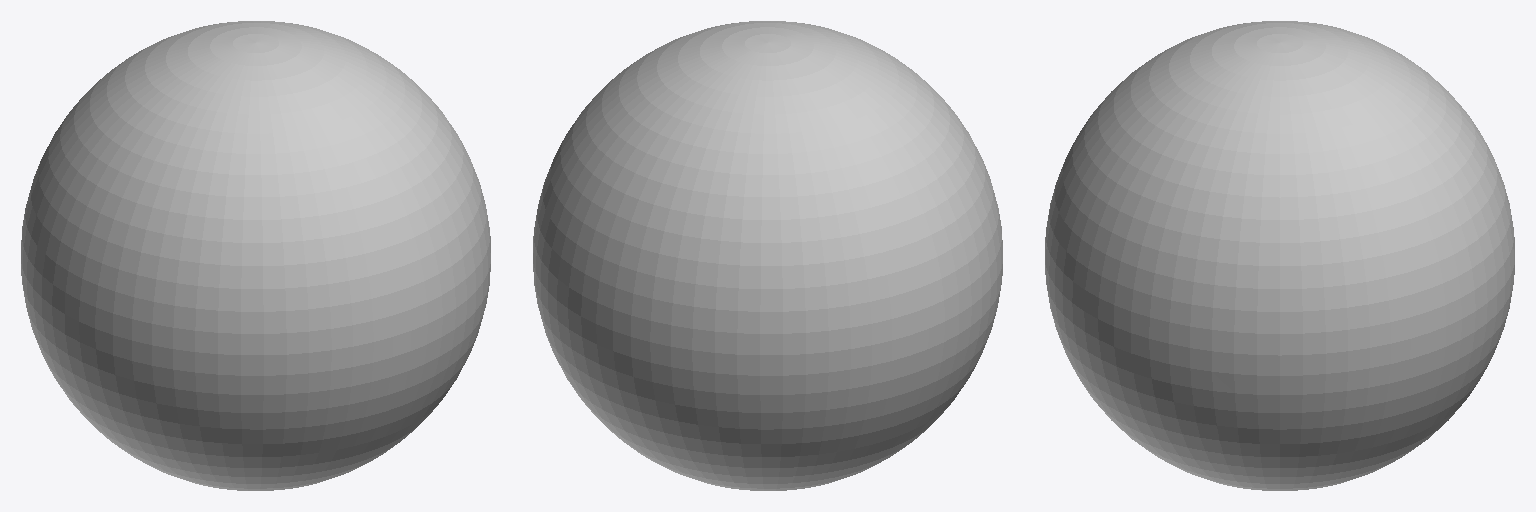
File: SkySphere.obj
The picture shows the model from 3 angles: view 1: azimuth 30°, elevation 25°; view 2: azimuth 150°, elevation 25°; view 3: azimuth 270°, elevation 25°; orthographic projection.
Parts seen in each view (by area): view 1: Sphere; view 2: Sphere; view 3: Sphere.
Boxes of the visible parts, box(x1,y1,x2,y2) form: Sphere: box(21, 21, 490, 490); Sphere: box(533, 21, 1002, 490); Sphere: box(1045, 21, 1514, 490).
Size of the model in its own units: 2 by 2 by 2.